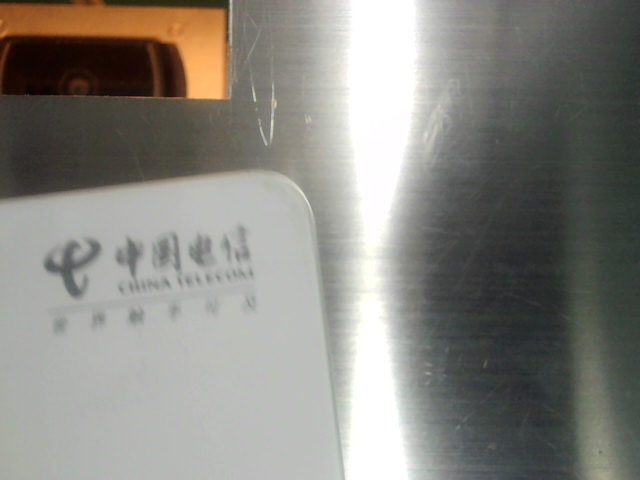AB_ChinaTelecom: (29, 225, 283, 336)
